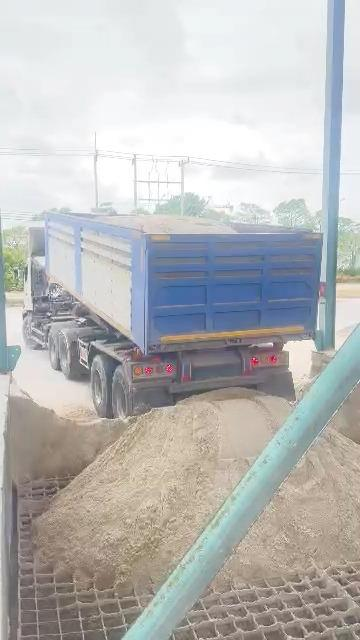sand: (36, 390, 288, 591), (218, 429, 360, 583), (9, 383, 131, 483), (102, 215, 236, 234), (330, 382, 360, 444), (58, 405, 97, 422)
